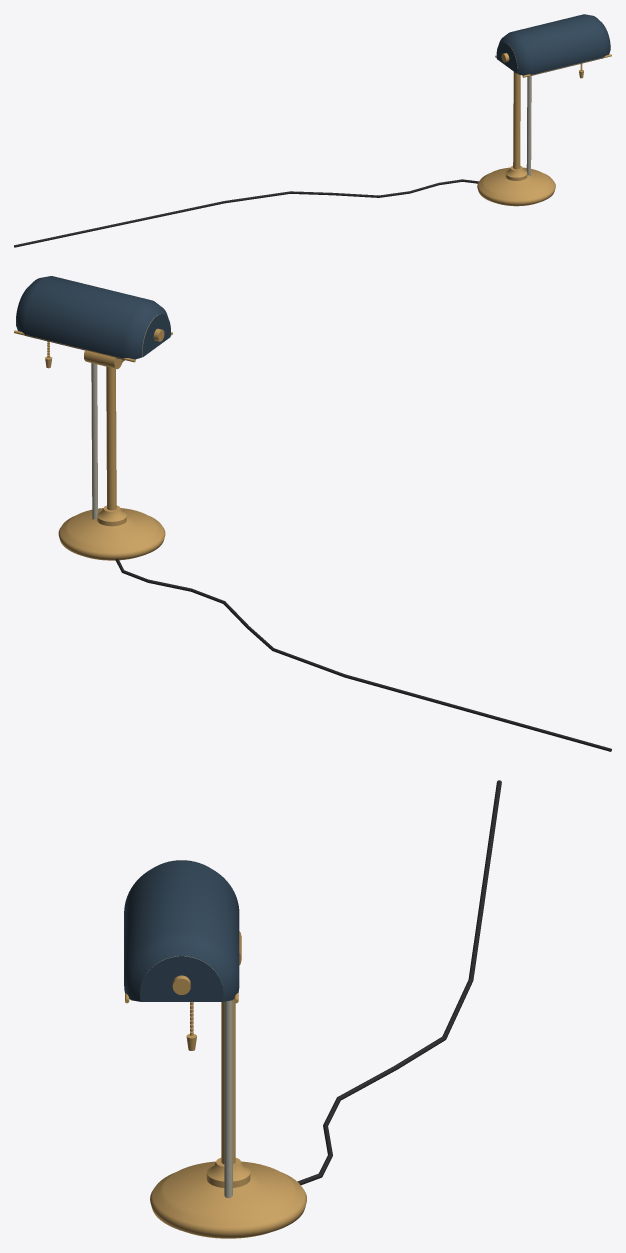
The model's file is Courier.glb.
The picture shows the model from 3 angles, top to bottom: view 1: azimuth 30°, elevation 25°; view 2: azimuth 150°, elevation 25°; view 3: azimuth 270°, elevation 25°; orthographic projection. The views are drawn at different scales.
Parts seen in each view (by area): view 1: Enamel gallery, Weighted base, Post, Power lead, Anglepoise link, Shade end; view 2: Enamel gallery, Weighted base, Post, Power lead, Anglepoise link, Shade end; view 3: Enamel gallery, Weighted base, Shade end, Anglepoise link, Post, Power lead, Turned stem collar.
Part boxes in pixels (x1=…): Enamel gallery: x1=498, y1=14, x2=610, y2=75; Weighted base: x1=477, y1=167, x2=555, y2=206; Post: x1=513, y1=72, x2=520, y2=169; Power lead: x1=14, y1=201, x2=224, y2=247; Anglepoise link: x1=526, y1=76, x2=531, y2=175; Shade end: x1=496, y1=42, x2=517, y2=73; Enamel gallery: x1=16, y1=276, x2=168, y2=359; Weighted base: x1=58, y1=508, x2=165, y2=560; Post: x1=106, y1=366, x2=116, y2=510; Power lead: x1=344, y1=674, x2=611, y2=751; Anglepoise link: x1=91, y1=363, x2=97, y2=519; Shade end: x1=142, y1=314, x2=170, y2=356; Enamel gallery: x1=124, y1=860, x2=239, y2=1001; Weighted base: x1=150, y1=1161, x2=306, y2=1238; Shade end: x1=140, y1=956, x2=223, y2=1001; Anglepoise link: x1=224, y1=1000, x2=232, y2=1198; Post: x1=221, y1=999, x2=235, y2=1164; Power lead: x1=468, y1=780, x2=501, y2=979; Turned stem collar: x1=206, y1=1158, x2=250, y2=1187.
Size of the model in its own units: 7.04 by 2.23 by 2.26.
